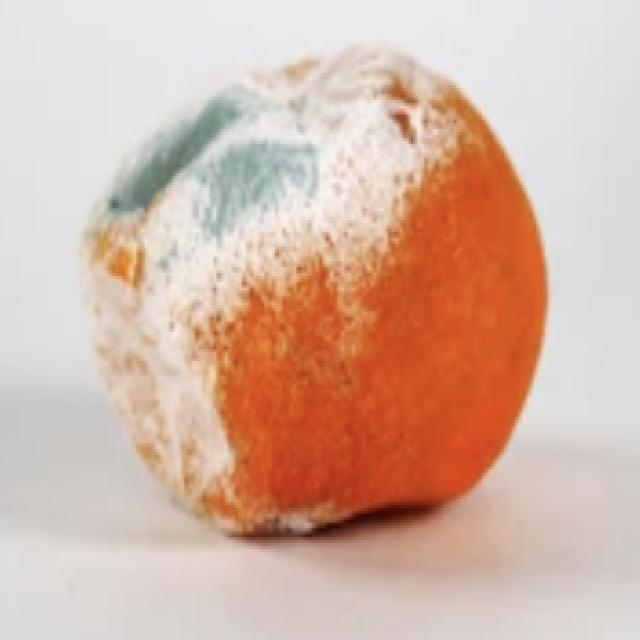sangat-busuk: (87, 46, 489, 532)
